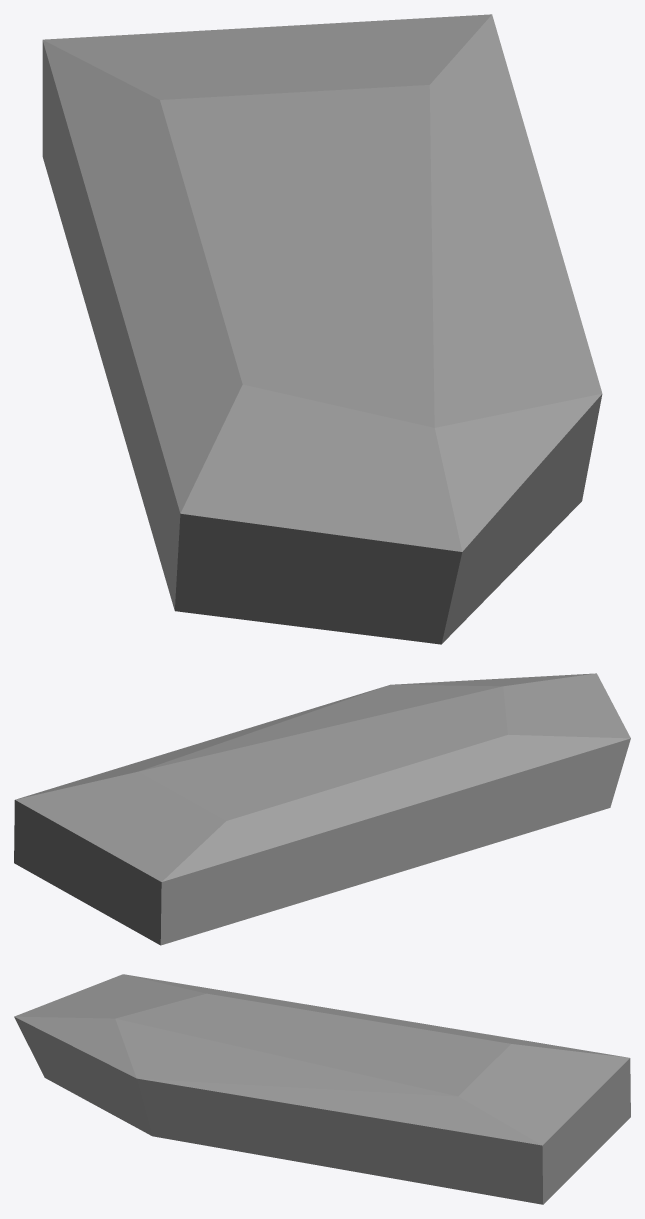
The model's file is stone_5.fbx.
3 views of the same model, one above another, from view 1: azimuth 30°, elevation 25°; view 2: azimuth 150°, elevation 25°; view 3: azimuth 270°, elevation 25° (orthographic). The views are drawn at different scales.
Visible parts, largest first — view 1: stone_5; view 2: stone_5; view 3: stone_5.
Boxes of the visible parts, x1,y1,x2,y2 form: stone_5: (42,14,602,644); stone_5: (14,673,630,945); stone_5: (14,974,630,1204).
Size of the model in its own units: 140 by 29 by 204.
